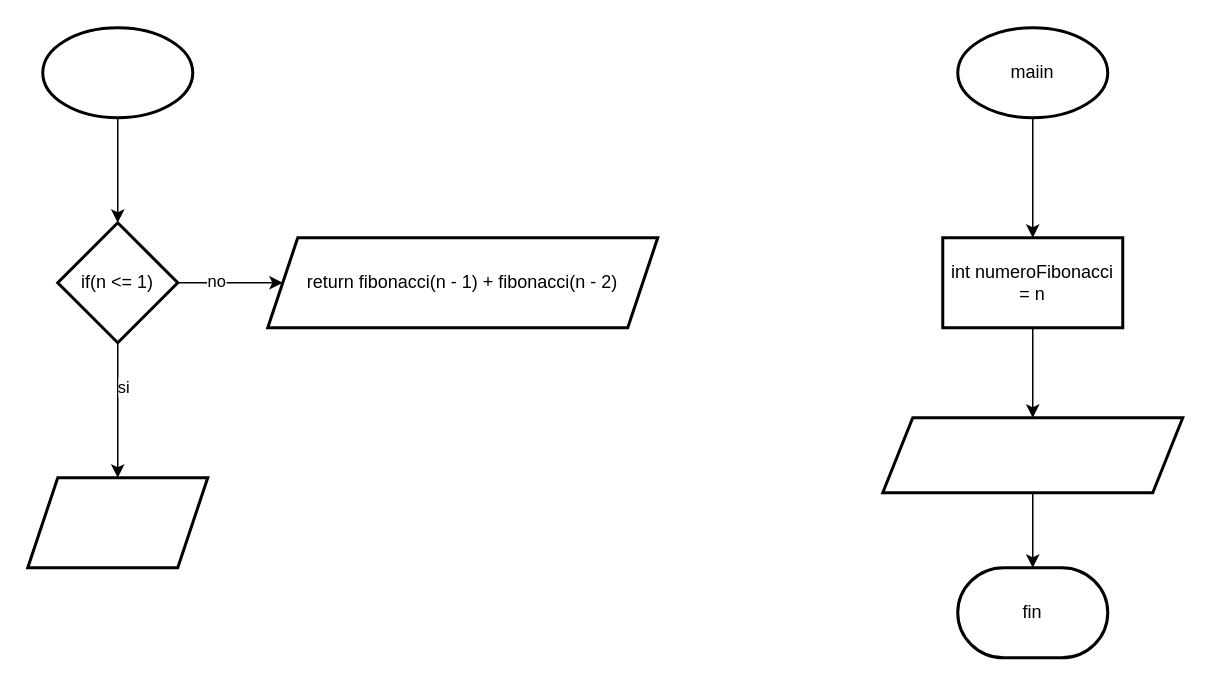
The diagram is 1209 pixels wide and 684 high, and some of its shapes have lost their labels. The centre of each missing label's shape, as x and y in pixels:
"int fibonacci(n)" belongs at point (117, 72).
"print fibonacci(numeroFibonacci)" belongs at point (1032, 455).
"return 1" belongs at point (117, 522).
